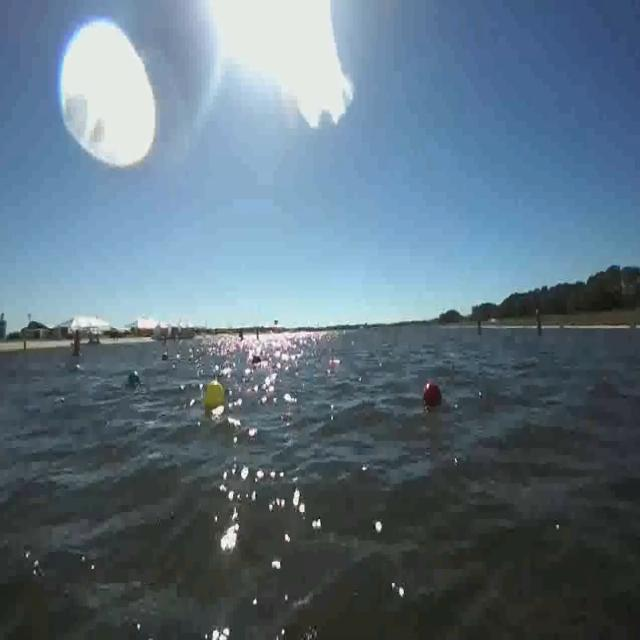red-buoy: (422, 383, 442, 405)
yellow-buoy: (203, 378, 228, 414)
